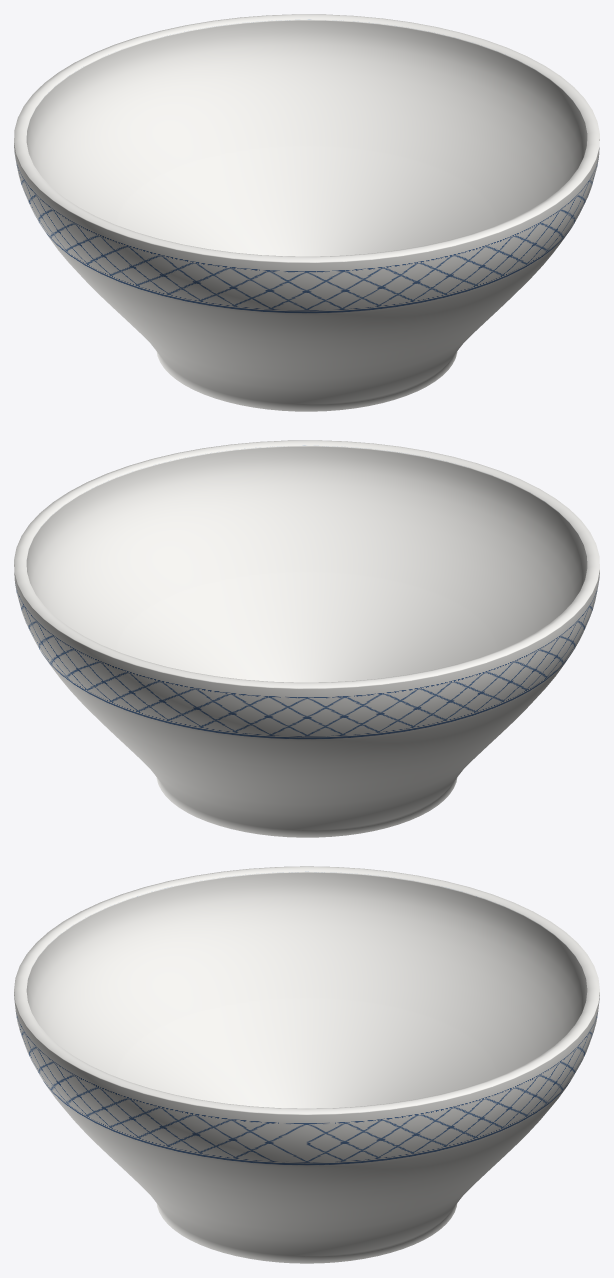
Rendered from soup_bowl_sample.glb.
3 renders of one model, top to bottom at view 1: azimuth 30°, elevation 25°; view 2: azimuth 150°, elevation 25°; view 3: azimuth 270°, elevation 25°, orthographic.
Parts seen in each view (by area): view 1: Soup Bowl; view 2: Soup Bowl; view 3: Soup Bowl.
Boxes of the visible parts, <box> form: Soup Bowl: <box>14,14,599,411</box>; Soup Bowl: <box>14,440,599,837</box>; Soup Bowl: <box>14,866,599,1263</box>.
Bounding box in the file's own units: 0.14 × 0.0558 × 0.14.
1 material, 1 textured.
